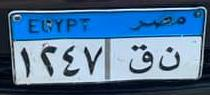1: (19, 46, 32, 76)
2: (40, 45, 60, 76)
4: (61, 44, 79, 76)
7: (82, 45, 105, 75)
noon: (156, 46, 181, 73)
qaaf: (126, 43, 155, 77)
